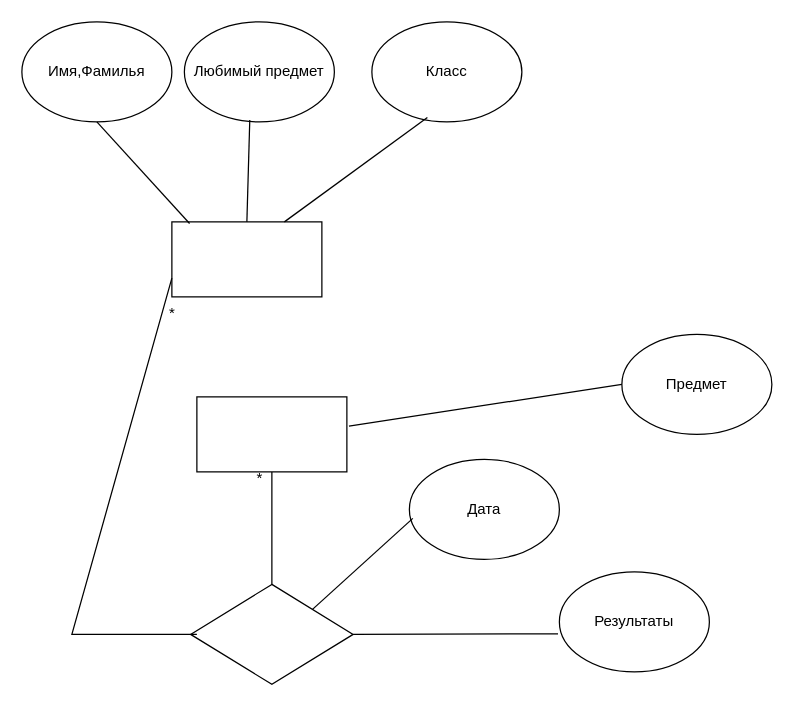
Image size: 794x706. Some labels were removed from this diagram. Each missing label, with the box of its shape:
Олимпиада: (196, 396, 347, 472)
Студент: (171, 221, 322, 297)
Участие: (189, 583, 353, 684)
